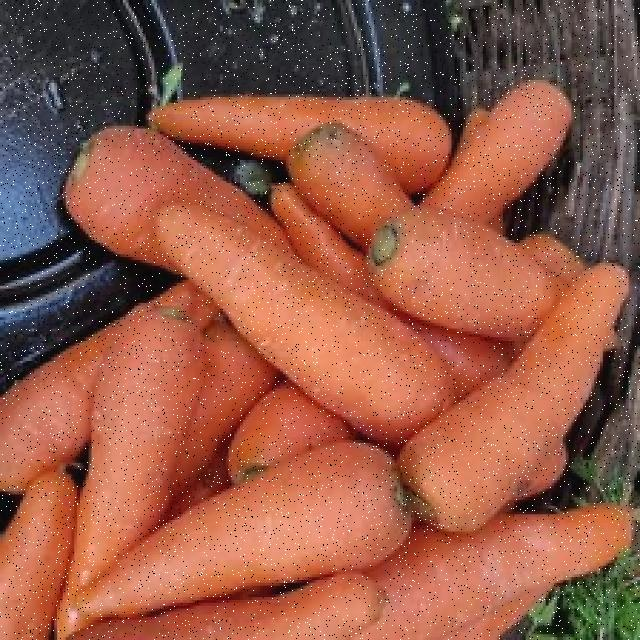Carrot: (84, 450, 417, 612), (82, 114, 338, 312), (360, 203, 626, 364), (65, 300, 177, 640)
